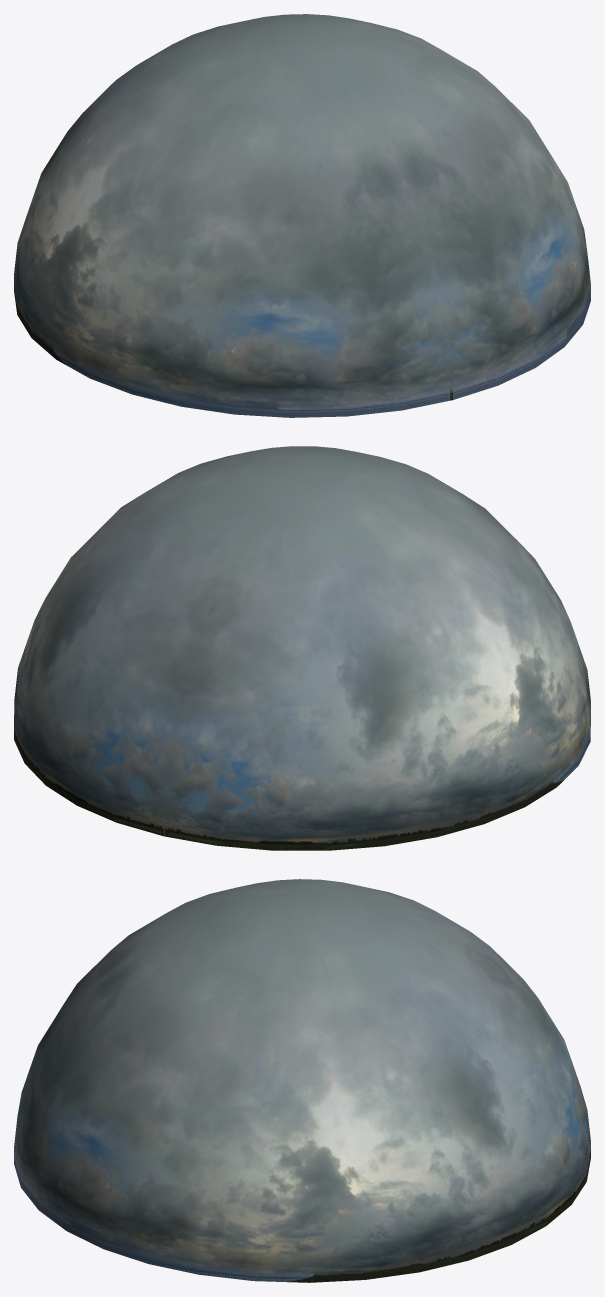
File: SKY1.FBX
The picture shows the model from 3 angles, top to bottom: view 1: azimuth 30°, elevation 25°; view 2: azimuth 150°, elevation 25°; view 3: azimuth 270°, elevation 25°; orthographic projection.
Visible parts, largest first — view 1: sky1; view 2: sky1; view 3: sky1.
Boxes of the visible parts, box(x1,y1,x2,y2) form: sky1: box(14, 14, 590, 417); sky1: box(14, 446, 590, 850); sky1: box(14, 879, 590, 1282).
Bounding box in the file's own units: 205448 × 99919 × 205448.
1 material, 1 textured.
